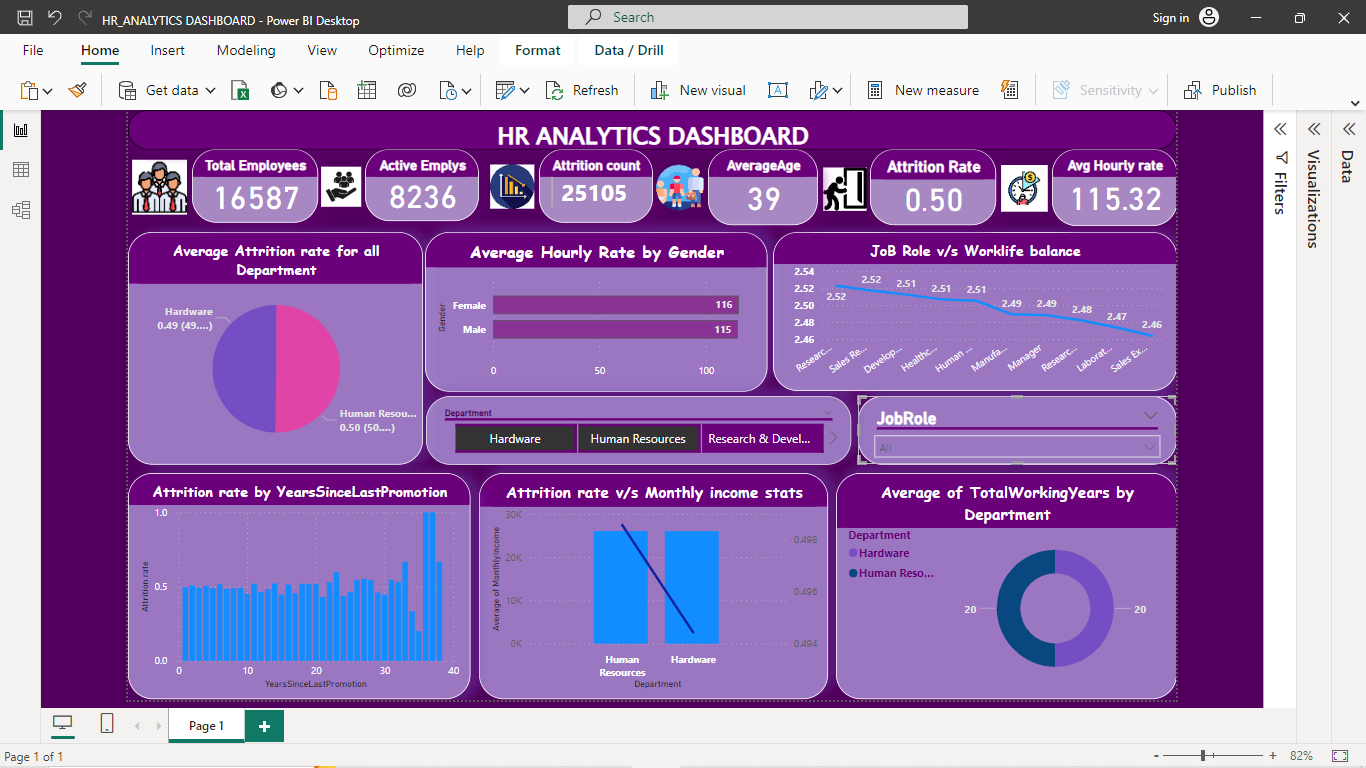

The dashboard page shown, as its layout file describes it:
{"tool":"powerbi","page":{"name":"Page 1","canvas":[1280,720],"ordinal":0},"visuals":[{"type":"pieChart","title":"Average Attrition rate for all Department","fields":{"Category":["HR 1.Department"],"Y":["HR 1.Attrition rate"]},"box":[0,148.8,360,283.8],"z":0},{"type":"barChart","fields":{"Y":["HR 1.Average Hourly Rate"],"Category":["HR 1.Gender"]},"box":[362.5,148.8,417.5,195],"z":1000},{"type":"slicer","fields":{"Values":["HR 1.JobRole"]},"box":[891.2,348.8,388.8,83.8],"z":2000},{"type":"lineStackedColumnComboChart","title":"Attrition rate v/s Monthly income stats","fields":{"Category":["HR 1.Department"],"Y":["Avg(HR 2.MonthlyIncome)"],"Y2":["HR 1.Attrition rate"]},"box":[428.8,442.5,426.2,276.2],"z":3000},{"type":"donutChart","fields":{"Category":["HR 1.Department"],"Y":["Avg(HR 2.TotalWorkingYears)"]},"box":[863.8,442.5,416.2,276.2],"z":4000},{"type":"slicer","fields":{"Values":["HR 1.Department"]},"box":[363.8,348.8,518.8,83.8],"z":5000},{"type":"lineChart","title":"JoB Role v/s Worklife balance","fields":{"Category":["HR 1.JobRole"],"Y":["Avg(HR 2.WorkLifeBalance)"]},"box":[787.5,148.8,492.5,193.8],"z":6000},{"type":"lineClusteredColumnComboChart","fields":{"Category":["HR 2.YearsSinceLastPromotion"],"Y":["HR 1.Attrition rate"]},"box":[0,442.5,417.5,276.2],"z":7000},{"type":"card","title":"Attrition Rate","fields":{"Values":["HR 1.Attrition rate"]},"box":[905.8,47.7,154,92.9],"z":8000},{"type":"image","box":[842.7,56,62.7,81.3],"z":9000},{"type":"card","title":"Avg Hourly rate","fields":{"Values":["Avg(HR 1.HourlyRate)"]},"box":[1127.1,47.7,152.8,94.1],"z":10000},{"type":"image","box":[1060,56,66.7,78.7],"z":11000},{"type":"card","title":"Total Employees","fields":{"Values":["Sum(HR 1.EmployeeCount)"]},"box":[77.5,47.5,153.8,90],"z":12000},{"type":"image","box":[0,53.3,77.3,81.3],"z":13000},{"type":"multiRowCard","title":"Attrition count","fields":{"Values":["HR 1.Attrition count1"]},"box":[501.2,47.5,138.8,90],"z":14000},{"type":"image","box":[437.3,52,64,81.3],"z":15000},{"type":"card","title":"Active Emplys","fields":{"Values":["Sum(HR 1.total employees)"]},"box":[289.7,47.7,139.4,88],"z":16000},{"type":"image","box":[230.7,56,58.7,74.7],"z":17000},{"type":"card","title":"AverageAge","fields":{"Values":["Avg(HR 1.Age)"]},"box":[707.8,47.7,134.5,92.9],"z":18000},{"type":"image","box":[640,49.3,68,92],"z":19000},{"type":"textbox","title":"HR ANALYTICS DASHBOARD","box":[0,0,1279.9,47.7],"z":20000}]}

Visuals, with their boxes on the page's 1280x720 design canvas (x1, y1, x2, y2). These are canvas units, not pixel positions in the 1366x768 screenshot, which may show the page scaled, cropped or inside an application window:
"Average Attrition rate for all Department" pieChart: x1=0 y1=149 x2=360 y2=433
barChart - HR 1.Average Hourly Rate x HR 1.Gender: x1=362 y1=149 x2=780 y2=344
slicer - HR 1.JobRole: x1=891 y1=349 x2=1280 y2=433
"Attrition rate v/s Monthly income stats" lineStackedColumnComboChart: x1=429 y1=442 x2=855 y2=719
donutChart - HR 1.Department x Avg(HR 2.TotalWorkingYears): x1=864 y1=442 x2=1280 y2=719
slicer - HR 1.Department: x1=364 y1=349 x2=883 y2=433
"JoB Role v/s Worklife balance" lineChart: x1=788 y1=149 x2=1280 y2=343
lineClusteredColumnComboChart - HR 2.YearsSinceLastPromotion x HR 1.Attrition rate: x1=0 y1=442 x2=418 y2=719
"Attrition Rate" card: x1=906 y1=48 x2=1060 y2=141
image: x1=843 y1=56 x2=905 y2=137
"Avg Hourly rate" card: x1=1127 y1=48 x2=1280 y2=142
image: x1=1060 y1=56 x2=1127 y2=135
"Total Employees" card: x1=78 y1=48 x2=231 y2=138
image: x1=0 y1=53 x2=77 y2=135
"Attrition count" multiRowCard: x1=501 y1=48 x2=640 y2=138
image: x1=437 y1=52 x2=501 y2=133
"Active Emplys" card: x1=290 y1=48 x2=429 y2=136
image: x1=231 y1=56 x2=289 y2=131
"AverageAge" card: x1=708 y1=48 x2=842 y2=141
image: x1=640 y1=49 x2=708 y2=141
"HR ANALYTICS DASHBOARD" textbox: x1=0 y1=0 x2=1280 y2=48
